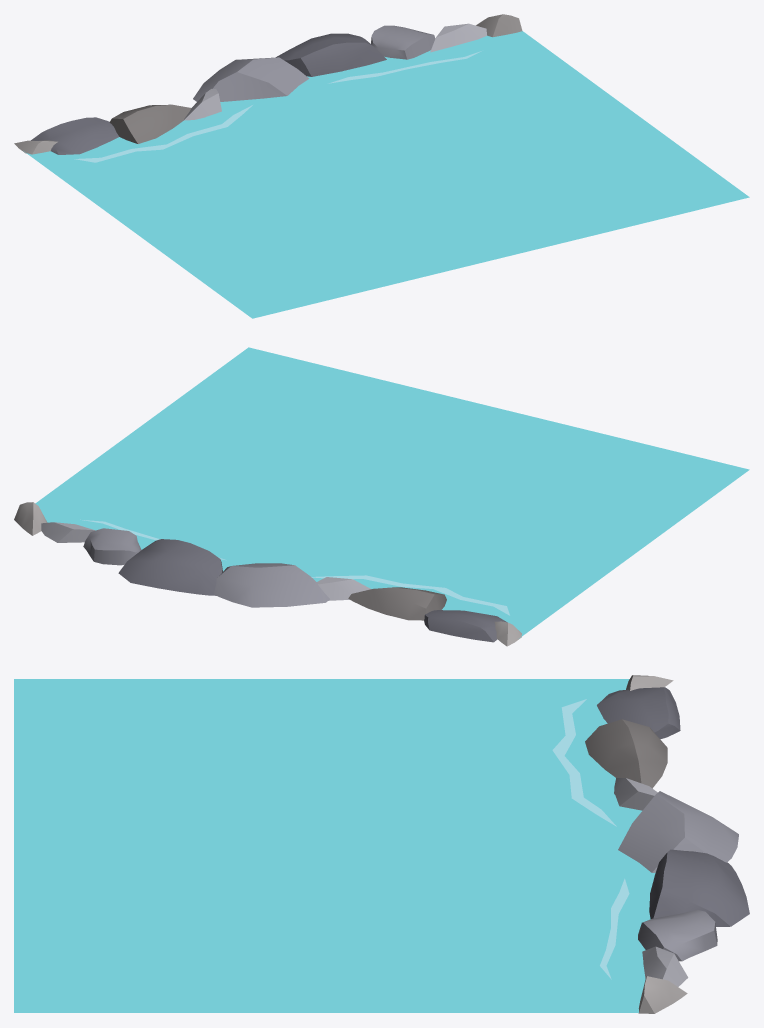
Rendered from WaterPatchSide_01.glb.
3 renders of one model, top to bottom at view 1: azimuth 30°, elevation 25°; view 2: azimuth 150°, elevation 25°; view 3: azimuth 270°, elevation 25°, orthographic. The views are drawn at different scales.
Parts seen in each view (by area): view 1: WaterPatchSide_01; view 2: WaterPatchSide_01; view 3: WaterPatchSide_01.
Boxes of the visible parts, x1,y1,x2,y2 form: WaterPatchSide_01: [14, 14, 749, 318]; WaterPatchSide_01: [14, 347, 749, 646]; WaterPatchSide_01: [14, 675, 749, 1013].
Size of what is drawn, in the model's own units: 8 by 0.3772 by 7.45.
Materials: 1 (1 with a texture image).
